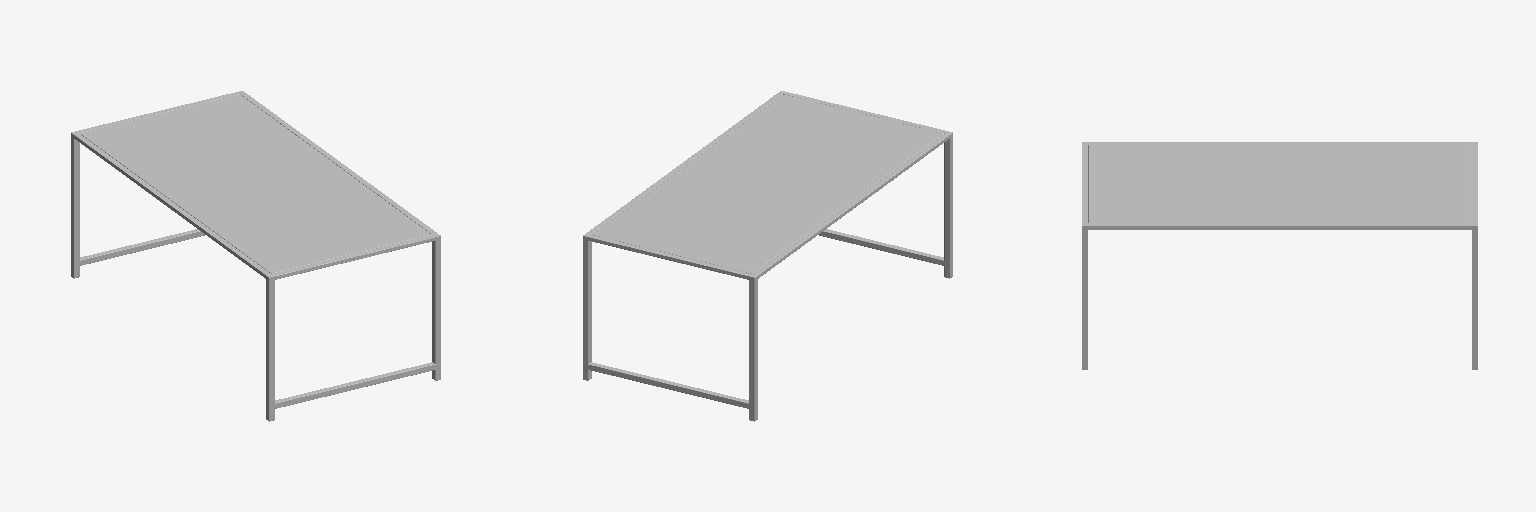
The model's file is Table.obj.
3 views of the same model, side by side, from view 1: azimuth 30°, elevation 25°; view 2: azimuth 150°, elevation 25°; view 3: azimuth 270°, elevation 25° (orthographic).
Parts seen in each view (by area): view 1: Laud_Cube.011; view 2: Laud_Cube.011; view 3: Laud_Cube.011.
Boxes of the visible parts, x1=… form: Laud_Cube.011: x1=71, y1=91, x2=440, y2=421; Laud_Cube.011: x1=583, y1=91, x2=952, y2=421; Laud_Cube.011: x1=1082, y1=142, x2=1477, y2=369.
Size of the model in its own units: 0.5 by 0.4002 by 0.9986.